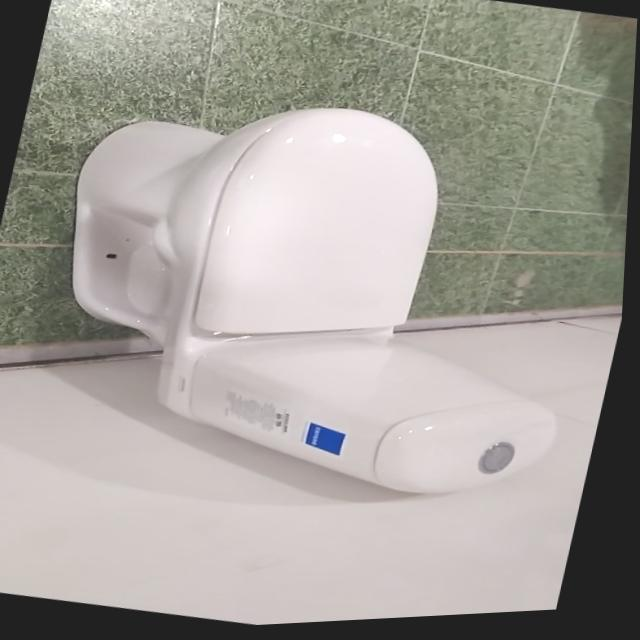toilet: (17, 56, 629, 538)
